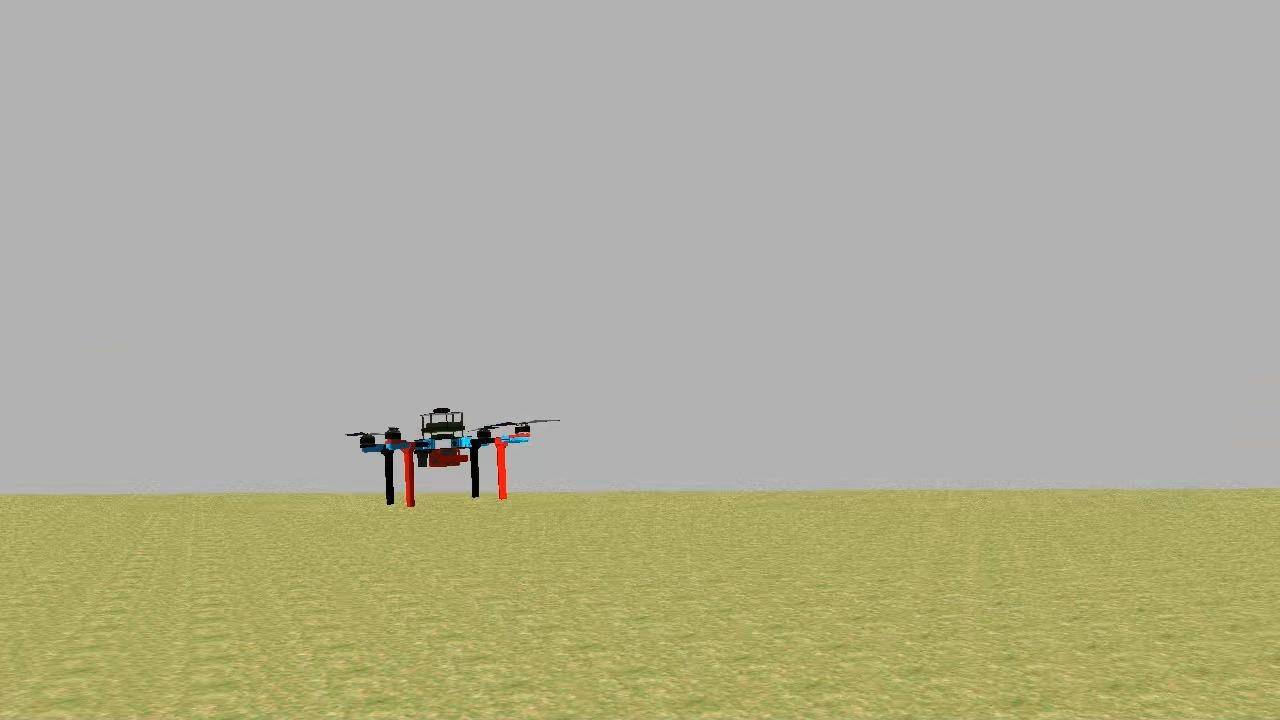UAV: (356, 400, 540, 512)
